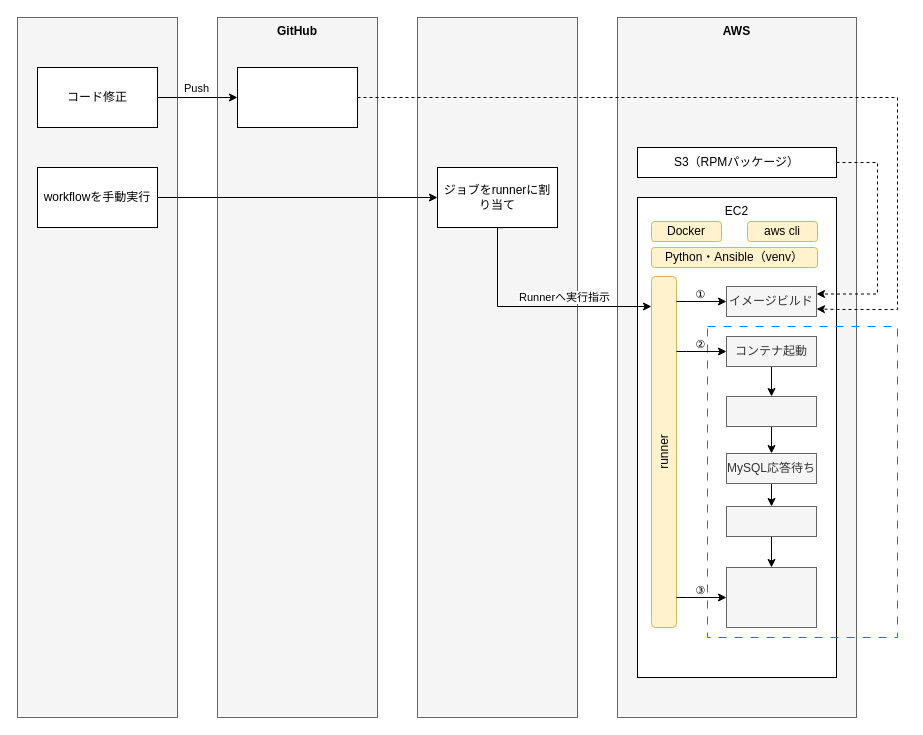
This 923x735 diagram has some shape labels left out. The shapes that lost their labels are listed below. From the top down, each one's box as (x1, y1, x2, y2) in pixels, then its label:
(236, 66, 358, 128): リポジトリ
(16, 16, 178, 718): Developer
(416, 16, 578, 718): Actions
(726, 396, 816, 426): MySQL起動
(706, 326, 898, 638): 検証用コンテナ
(726, 506, 816, 536): Splunk起動
(726, 566, 816, 628): AnsibleでDB・ユーザー・テーブルを作成
